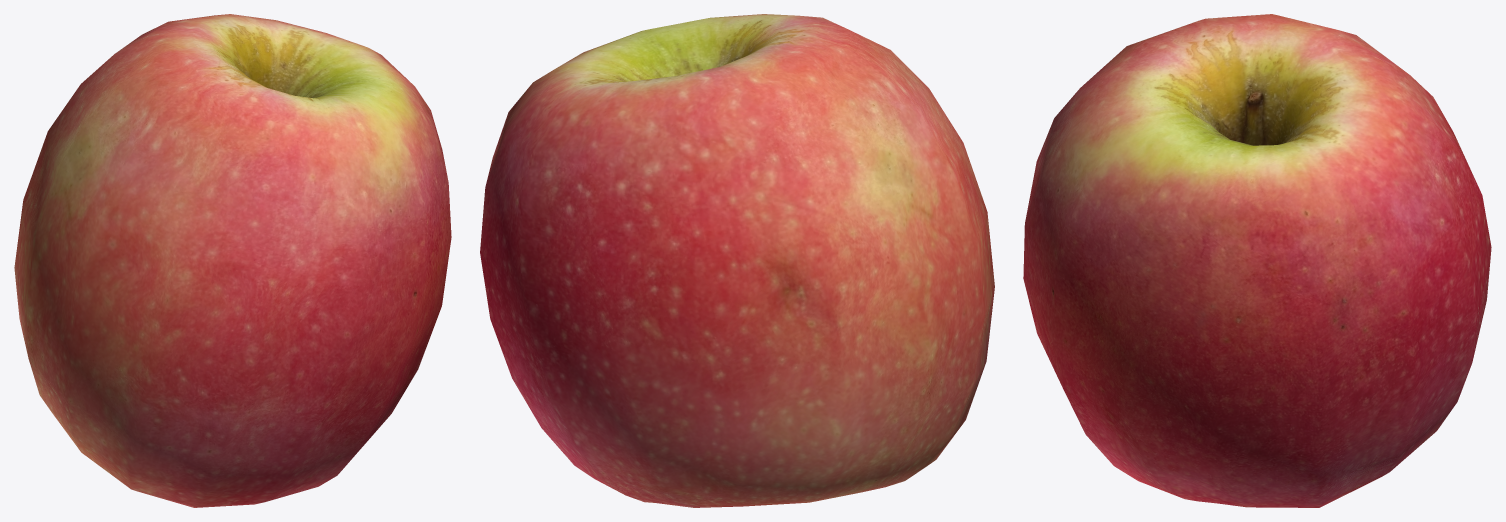
The model's file is A102_Apple_low.fbx.
3 renders of one model, left to right at view 1: azimuth 30°, elevation 25°; view 2: azimuth 150°, elevation 25°; view 3: azimuth 270°, elevation 25°, orthographic. The views are drawn at different scales.
Parts seen in each view (by area): view 1: A102_Apple_low; view 2: A102_Apple_low; view 3: A102_Apple_low.
Part boxes in pixels (x1,y1,x2,y2): A102_Apple_low: (14, 14, 451, 507); A102_Apple_low: (480, 14, 994, 507); A102_Apple_low: (1023, 14, 1491, 507).
Size of the model in its own units: 8.76 by 8.67 by 8.84.
Materials: 1 (1 with a texture image).
